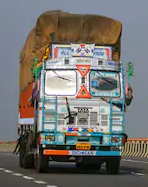truck: (14, 8, 133, 176)
